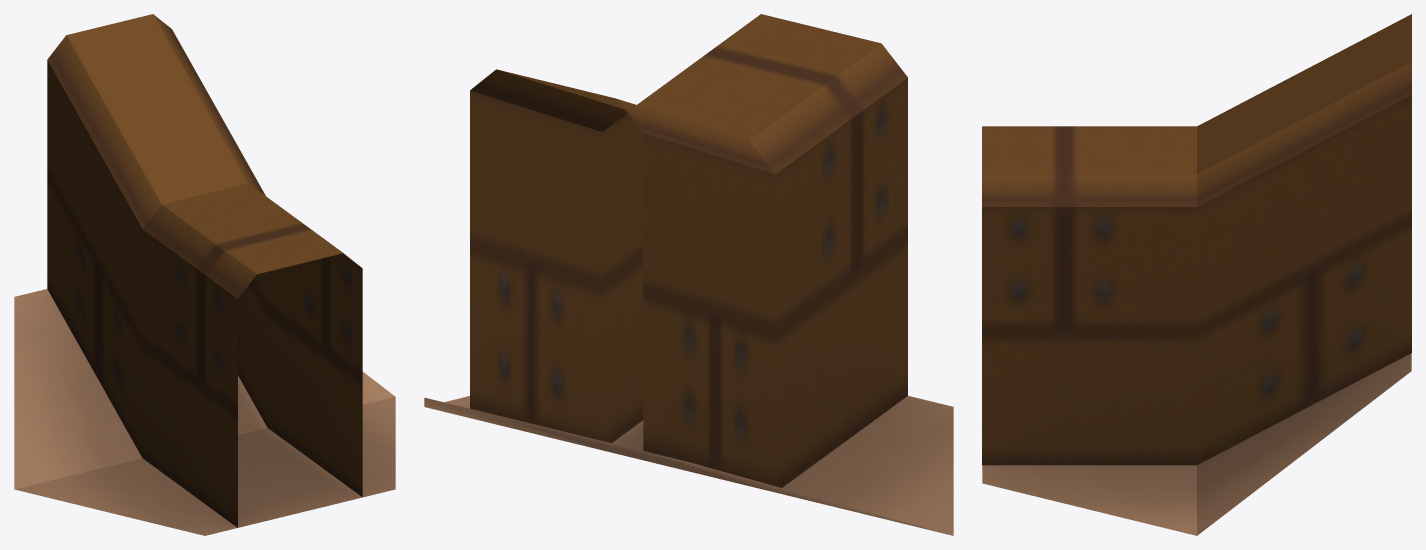
The model's file is Barriere_PBC.FBX.
3 renders of one model, left to right at view 1: azimuth 30°, elevation 25°; view 2: azimuth 150°, elevation 25°; view 3: azimuth 270°, elevation 25°, orthographic. The views are drawn at different scales.
Parts seen in each view (by area): view 1: Barriere_PBC; view 2: Barriere_PBC; view 3: Barriere_PBC.
Part boxes in pixels (bbox=[...]): Barriere_PBC: bbox=[14, 14, 395, 535]; Barriere_PBC: bbox=[424, 14, 953, 535]; Barriere_PBC: bbox=[982, 14, 1411, 535].
Size of the model in its own units: 1 by 0.8747 by 0.8663.
